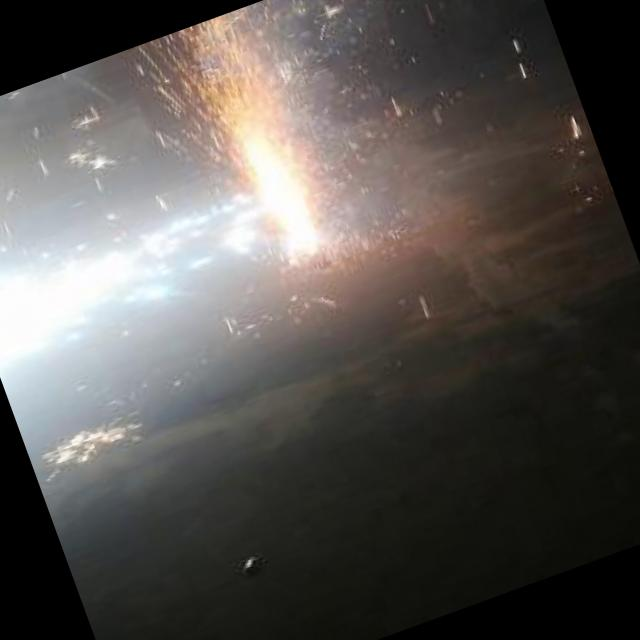fire: (92, 0, 468, 344)
